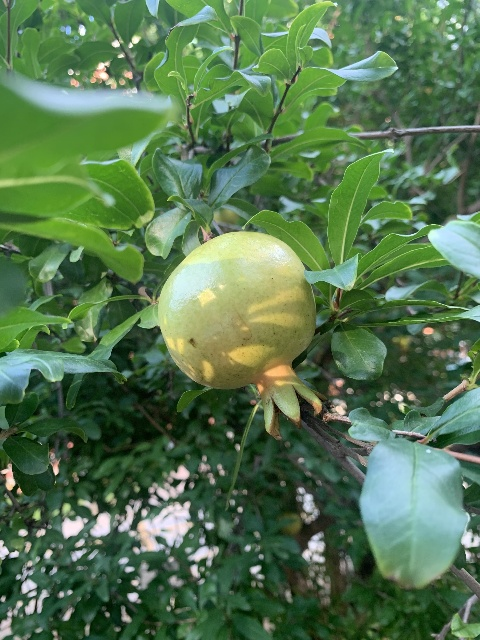mid-growth: (157, 229, 323, 440)
